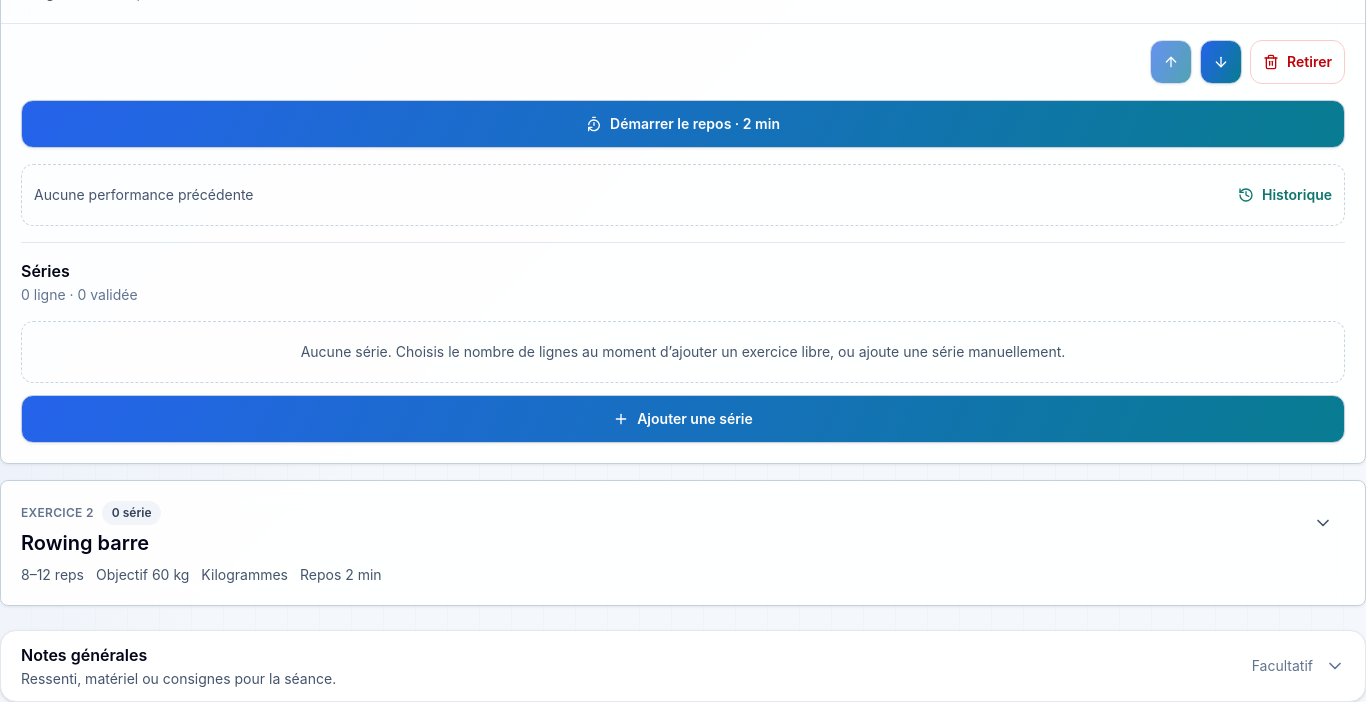
Test case: WorkoutSessionPage › n’ouvre qu’un exercice, permet de tous les fermer et reprend l’exercice courant
(page scrolled)
Step 1. Click the button named "Développer Rowing barre" → point(1323, 523), box [1301, 501, 1345, 545]
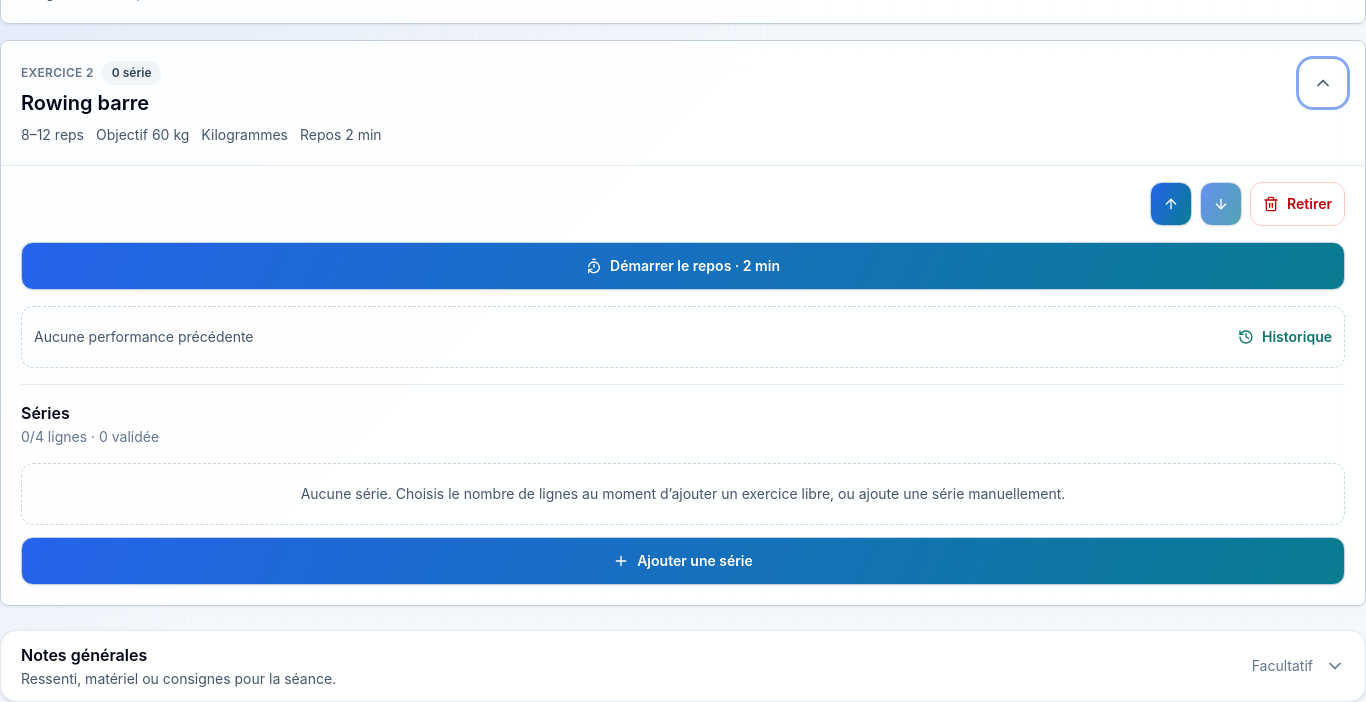
Result: the button named "Réduire Rowing barre" is shown
Step 2. Click the button named "Réduire Rowing barre" → point(1323, 83), box [1301, 61, 1345, 105]
(page scrolled)
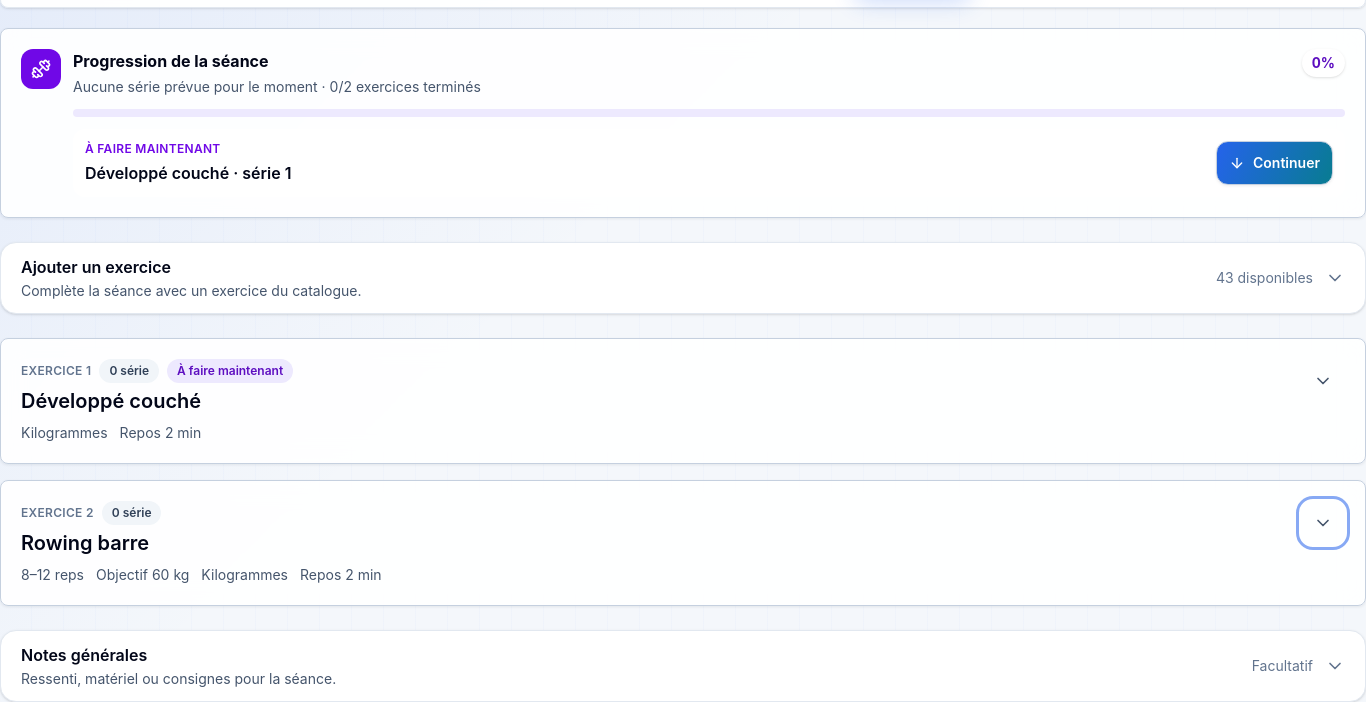
Result: the button named "Développer Développé couché" is shown at [1301, 359, 1345, 403]
Result: the button named "Développer Rowing barre" is shown at [1301, 501, 1345, 545]
Step 3. Click the button "Continuer" → point(1274, 163), box [1216, 141, 1333, 185]
(page scrolled)
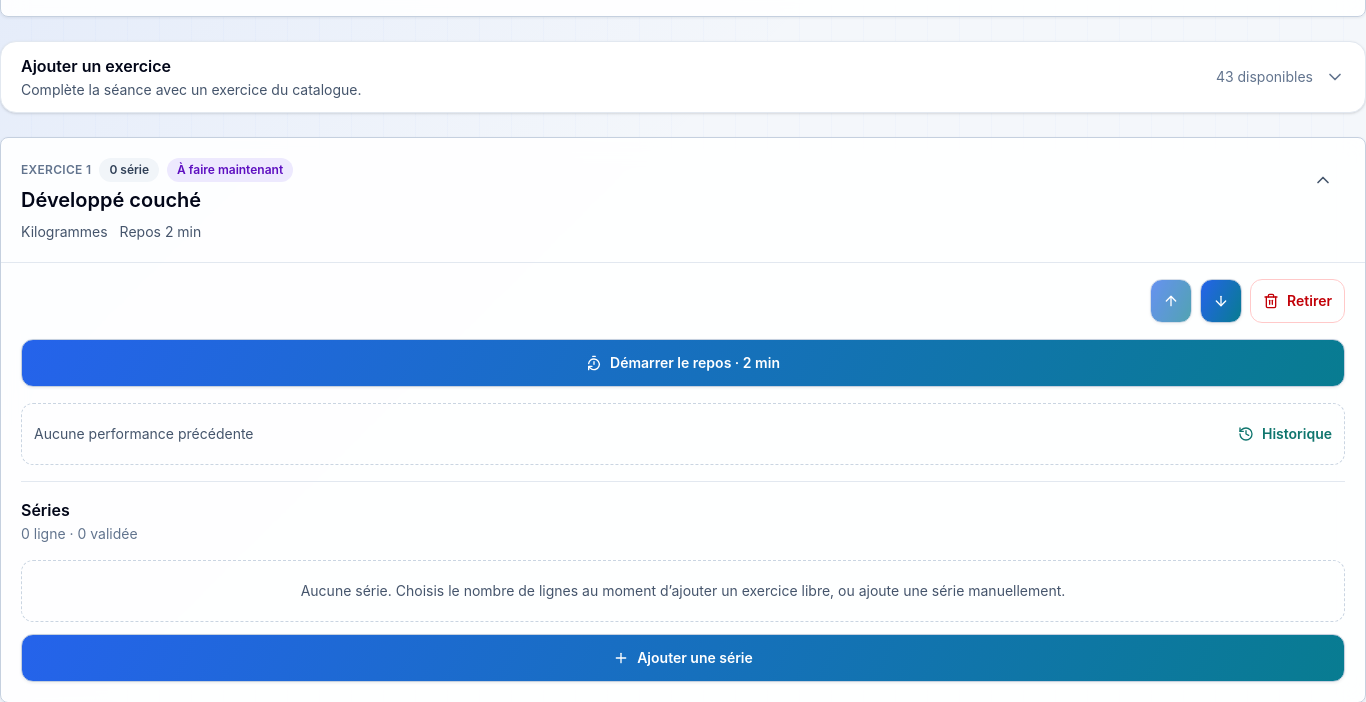
Result: the button named "Réduire Développé couché" is shown at [1301, 158, 1345, 202]
